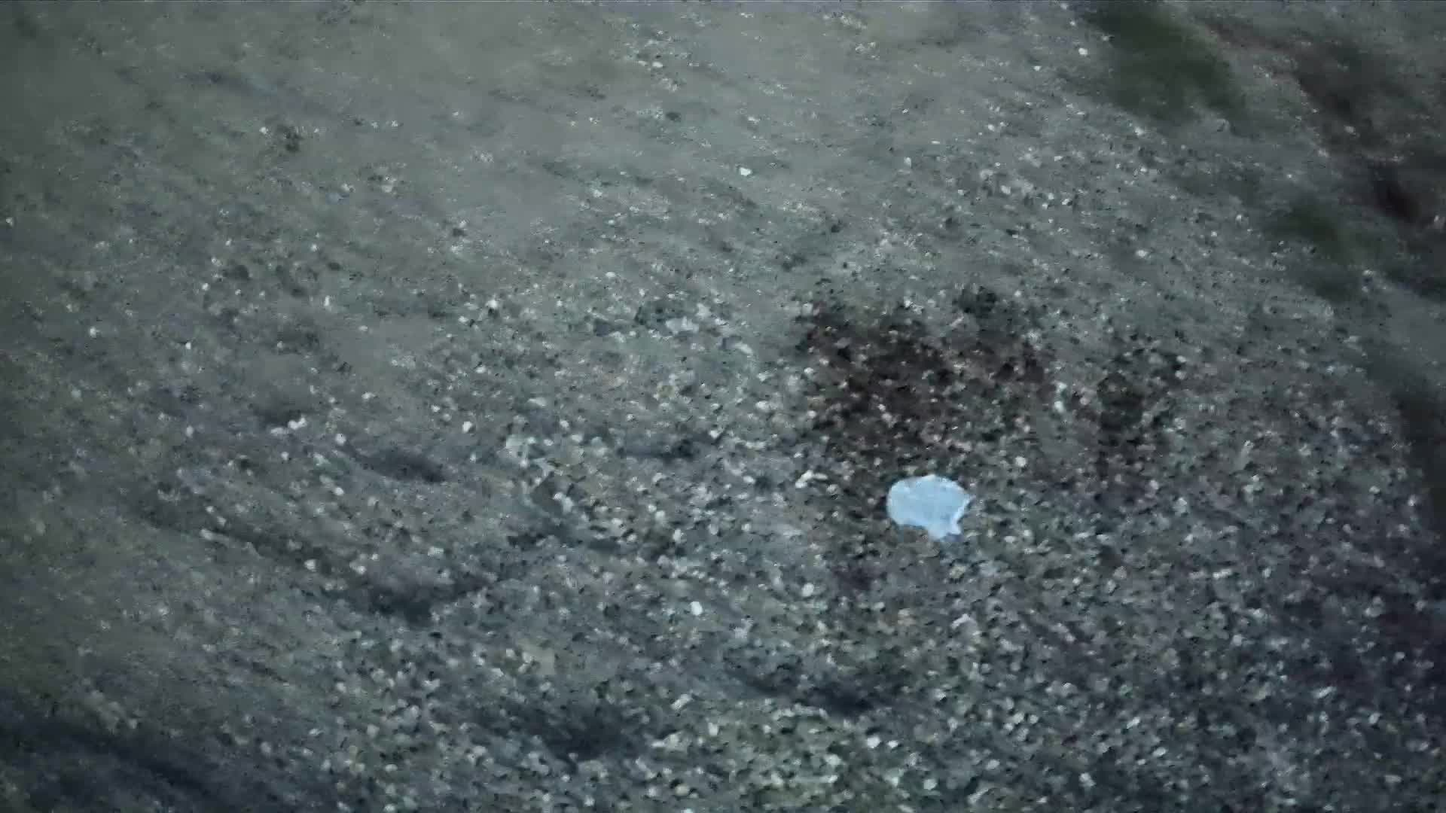Target: (878, 470, 976, 544)
